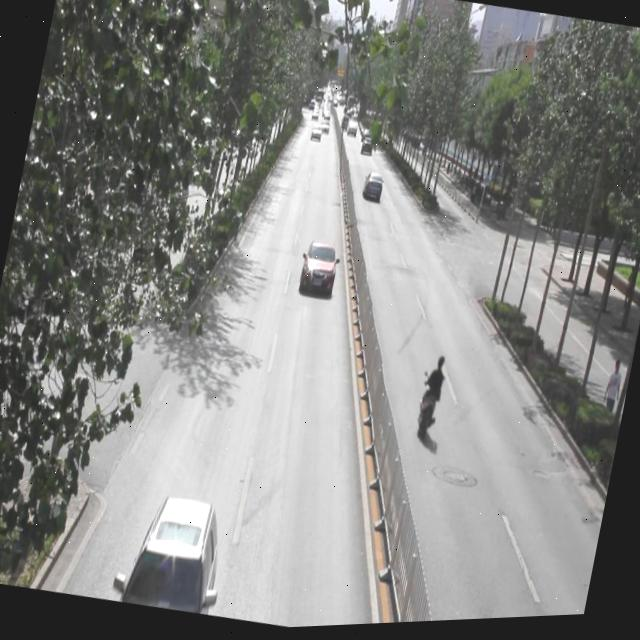car: (121, 487, 230, 620), (297, 241, 340, 301), (360, 172, 385, 205), (358, 139, 374, 159), (360, 129, 376, 147), (309, 127, 323, 145), (346, 122, 359, 138), (319, 120, 332, 136)
